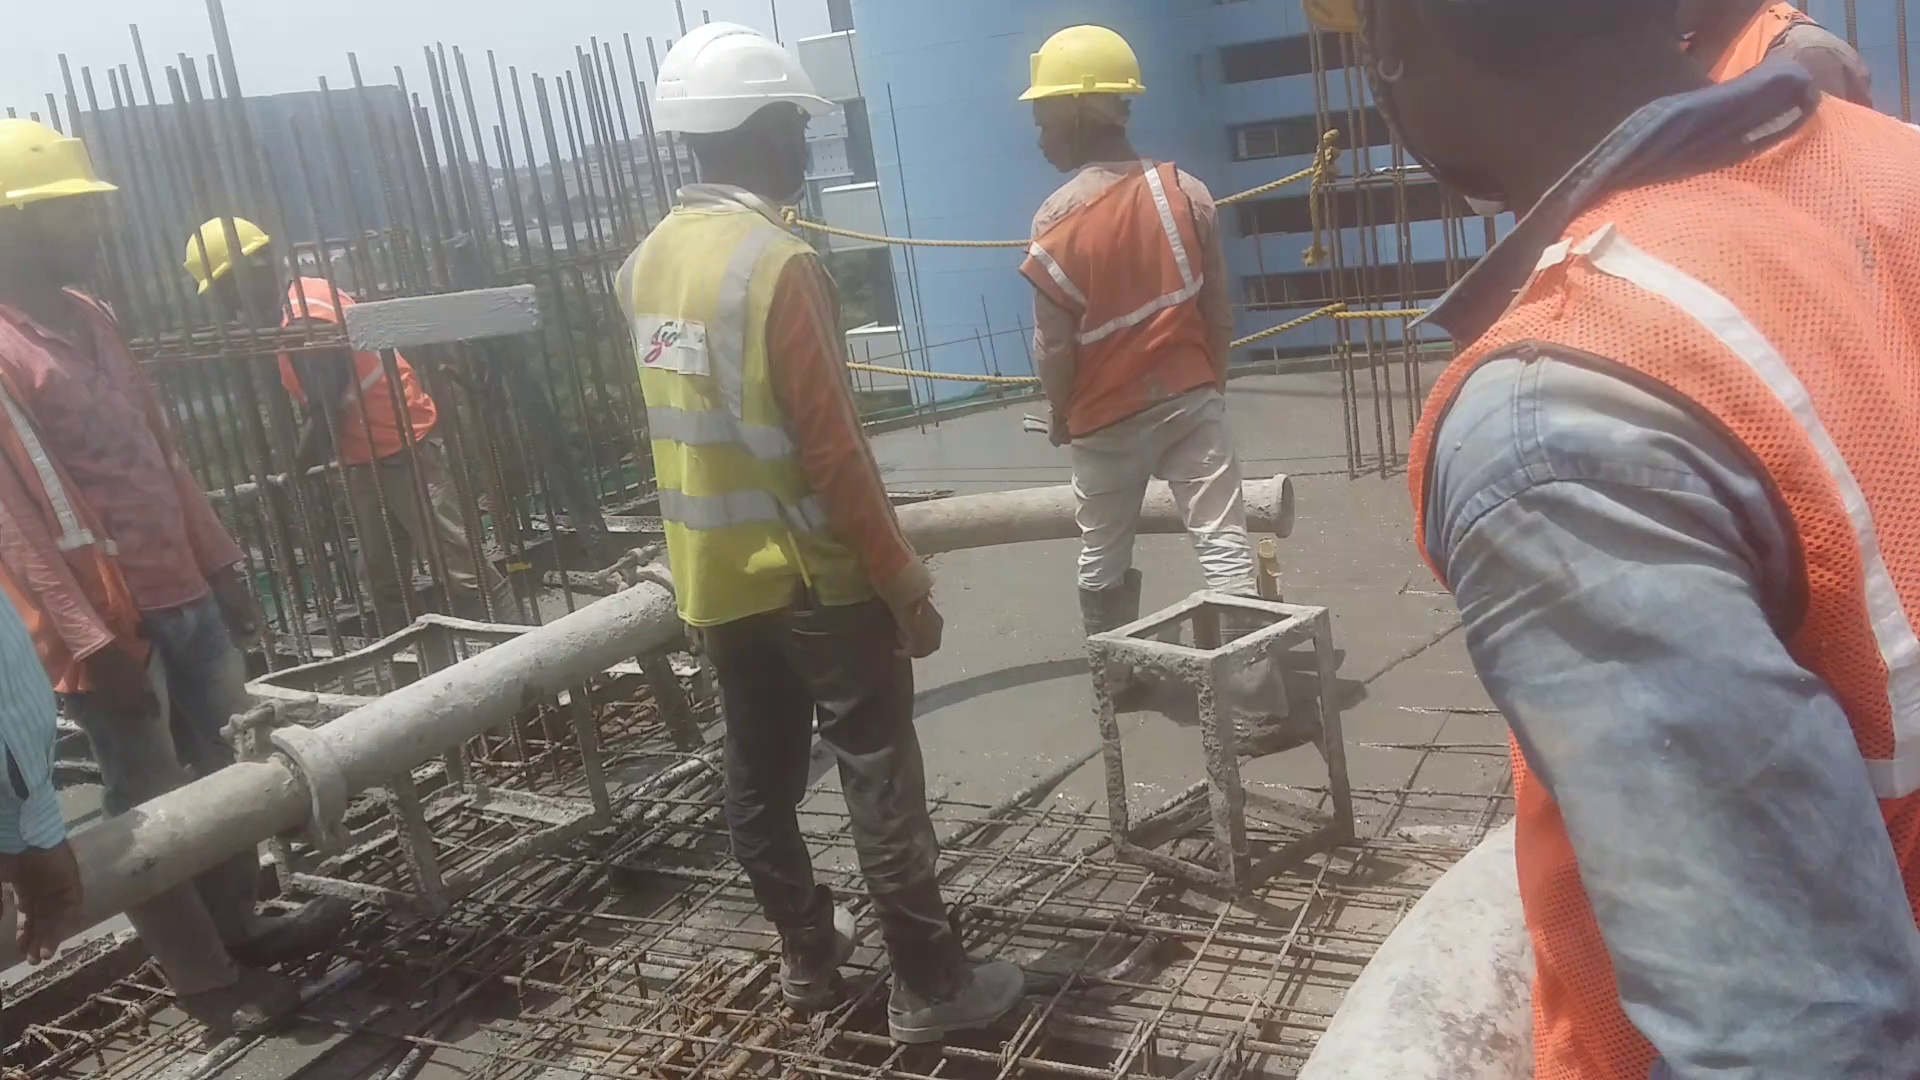SAFE: (628, 22, 839, 621), (1023, 16, 1209, 433), (1, 113, 138, 628), (177, 207, 439, 458)
